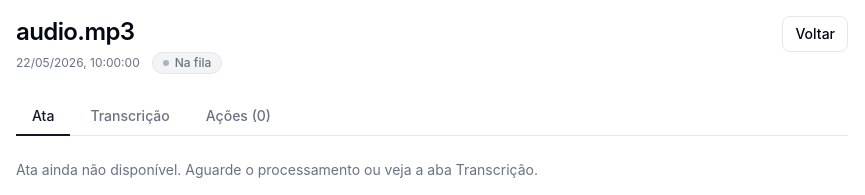
MeetingDetailPage › meeting sem transcript+minutes mostra mensagens apropriadas
Check: the text "Ata ainda não disponível" is shown, box x1=16 y1=161 x2=538 y2=178
Step 1. Click the button "Transcrição" → (130, 117), box x1=74 y1=98 x2=186 y2=136
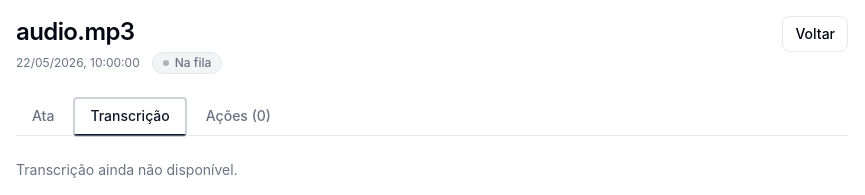
Check: the text "Transcrição ainda não disponível." is shown, box x1=16 y1=161 x2=238 y2=178
